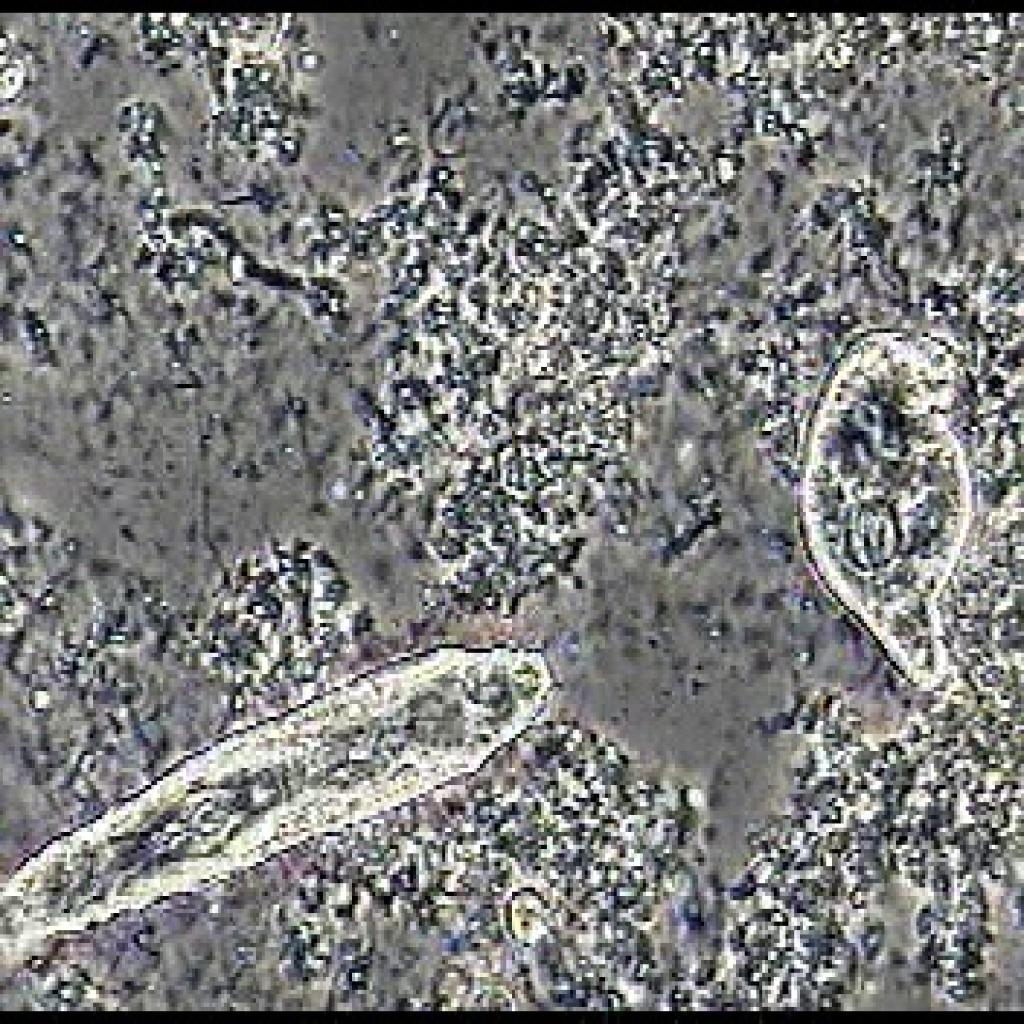Rotatoria: (0, 604, 550, 949), (785, 301, 995, 736)
